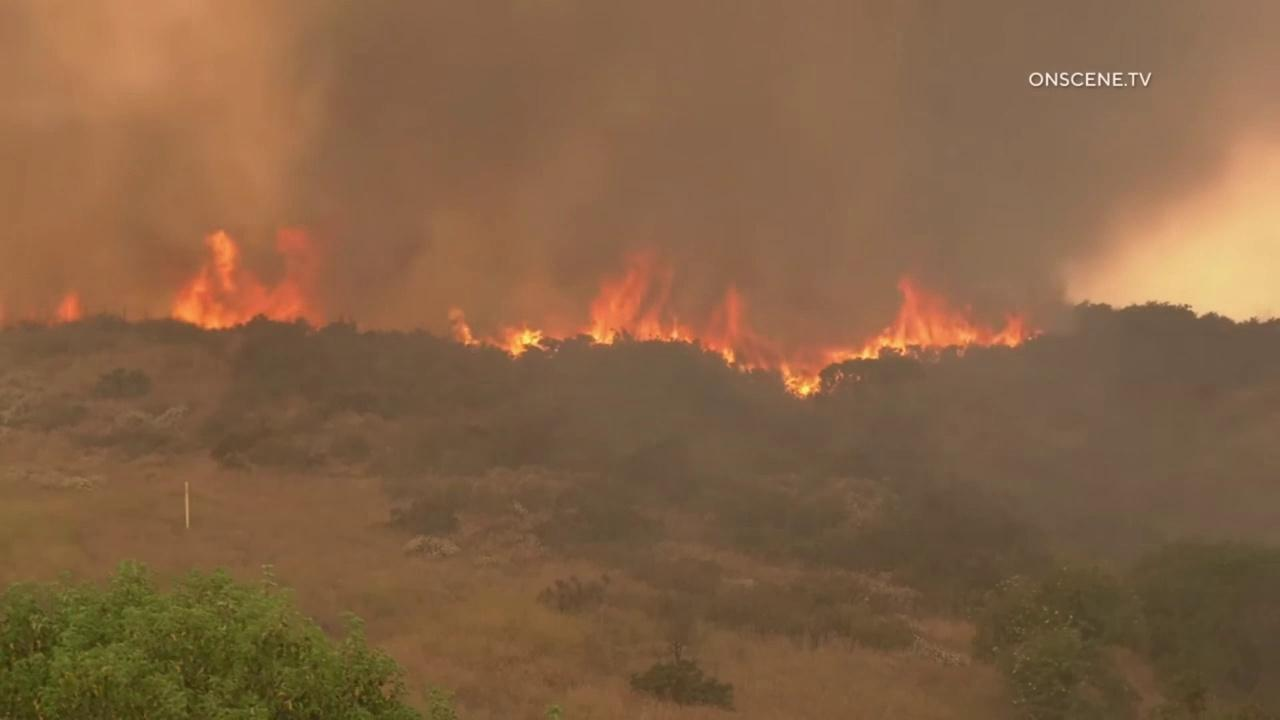fire: (576, 252, 1046, 401), (169, 222, 327, 331), (449, 305, 550, 359), (50, 288, 83, 325)
smoke: (0, 0, 1280, 332)
